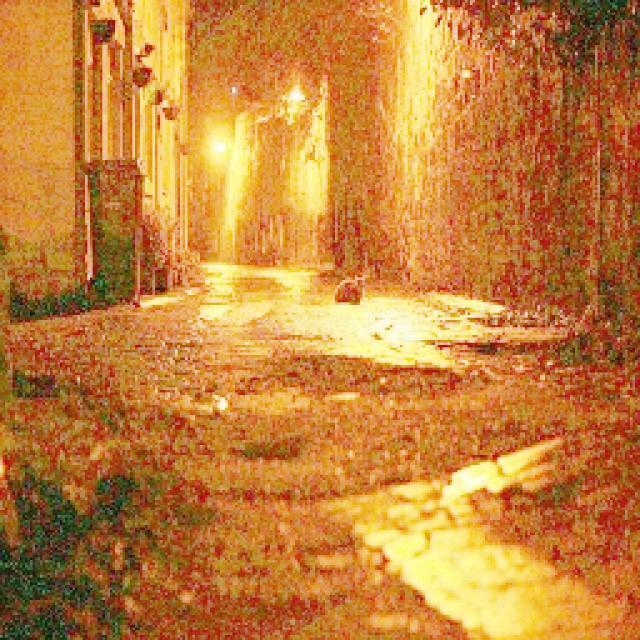cat: (334, 270, 372, 306)
